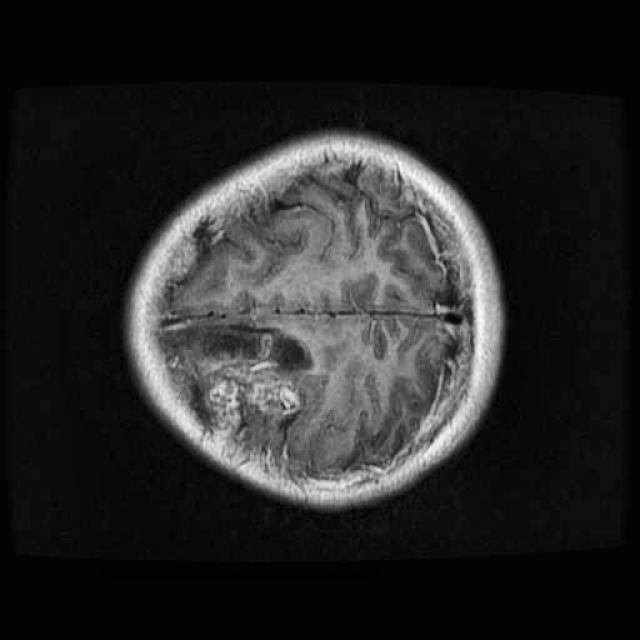Non-Tumor: (148, 318, 316, 448)
